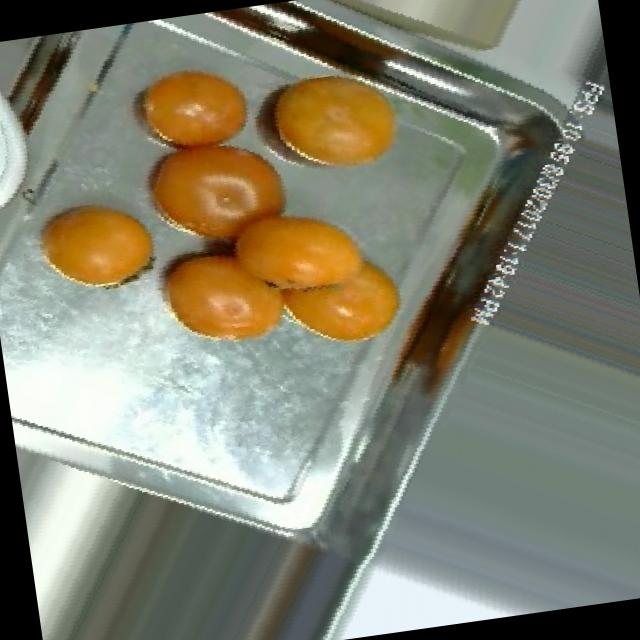Fruit: (214, 177, 431, 384), (228, 31, 433, 202), (111, 108, 322, 270), (128, 218, 312, 372), (12, 172, 182, 316), (100, 37, 276, 176)
